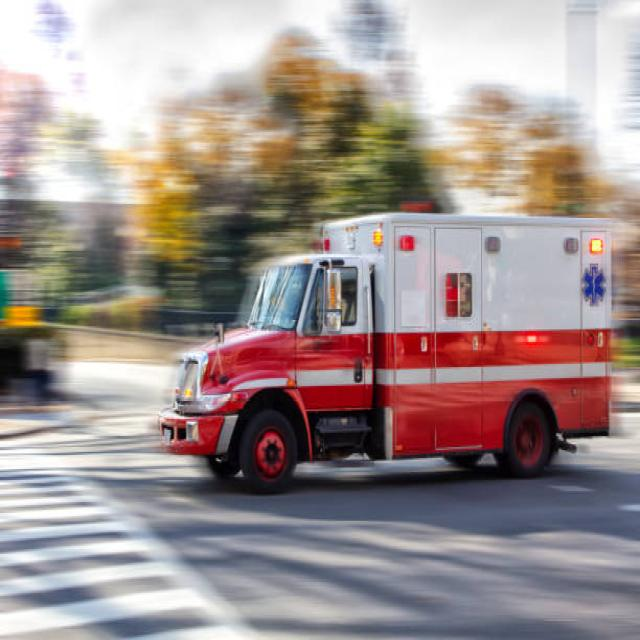emergency: (160, 214, 609, 492)
